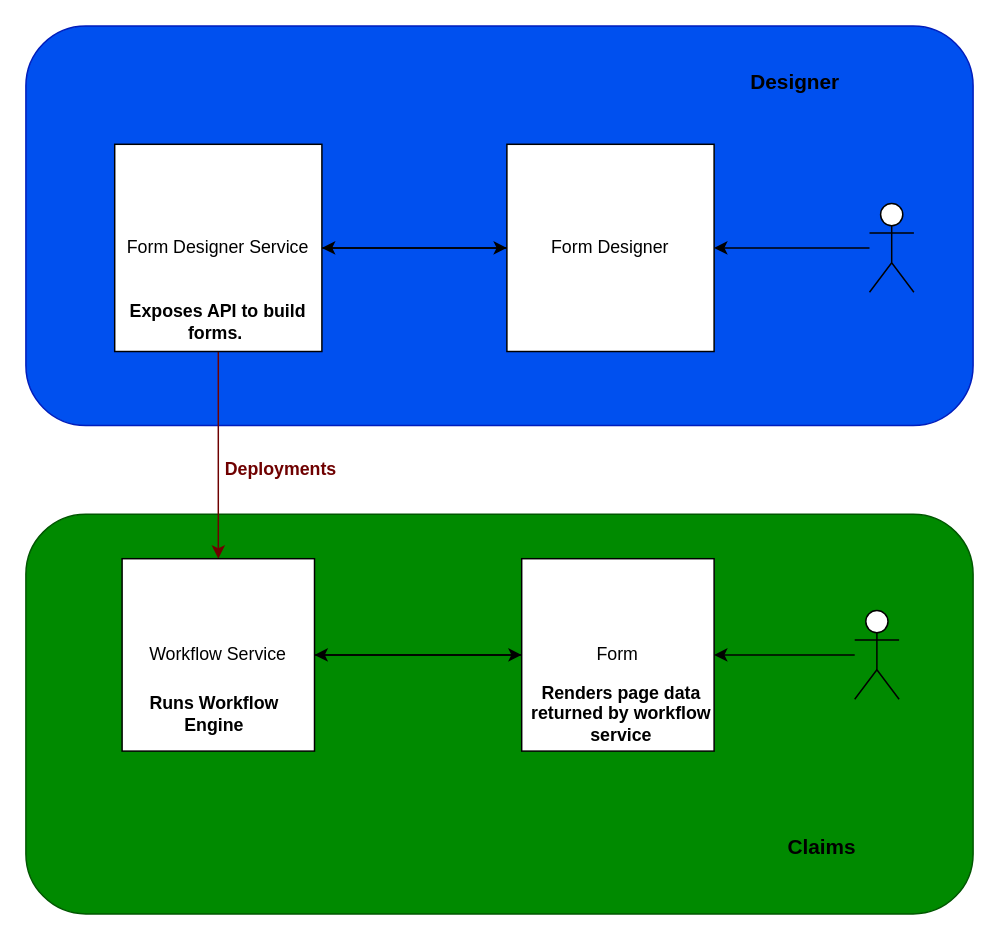
This 999x940 diagram has some shape labels left out. Here are the shapes that lost their labels. From the top down, the centre of each, then its label:
At point 891,247: "Customer".
At point 876,654: "Claimant".
